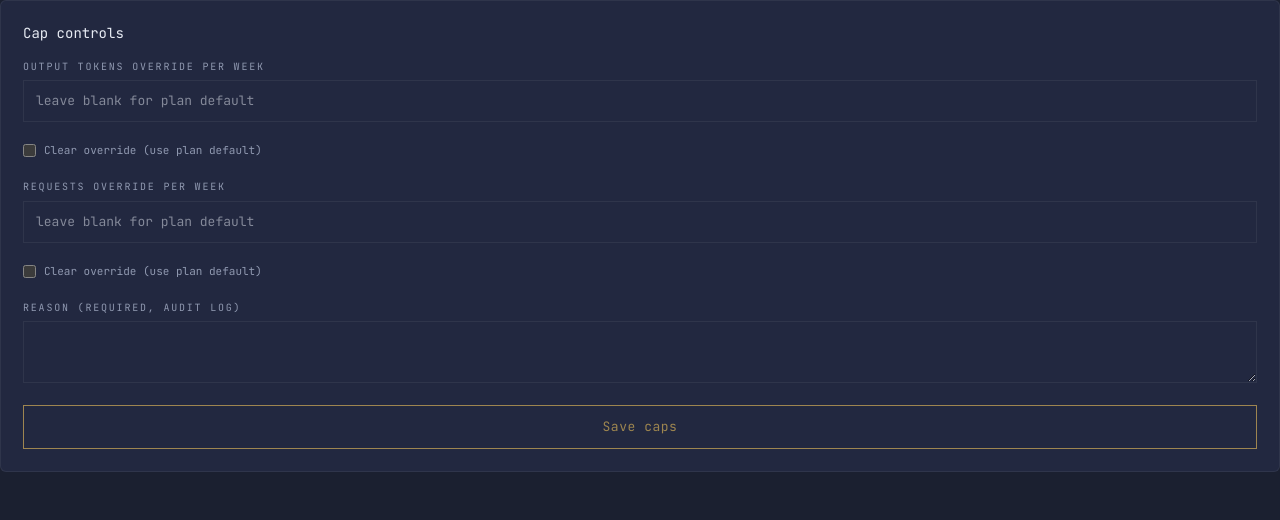
Test: CapOverrideCard › rejects negative numbers
Type "-5" into the number field labelled "Output tokens override per week" at (640, 101), box [23,80,1257,122]
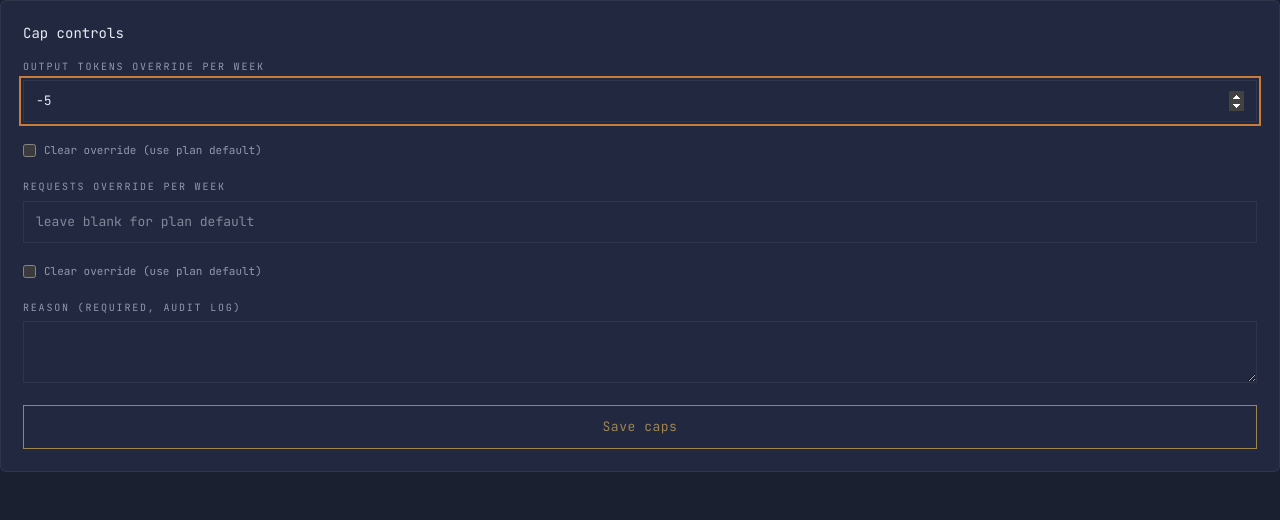
Type "r" into the text box labelled "Reason (required, audit log)" at (640, 352), box [23,321,1257,383]
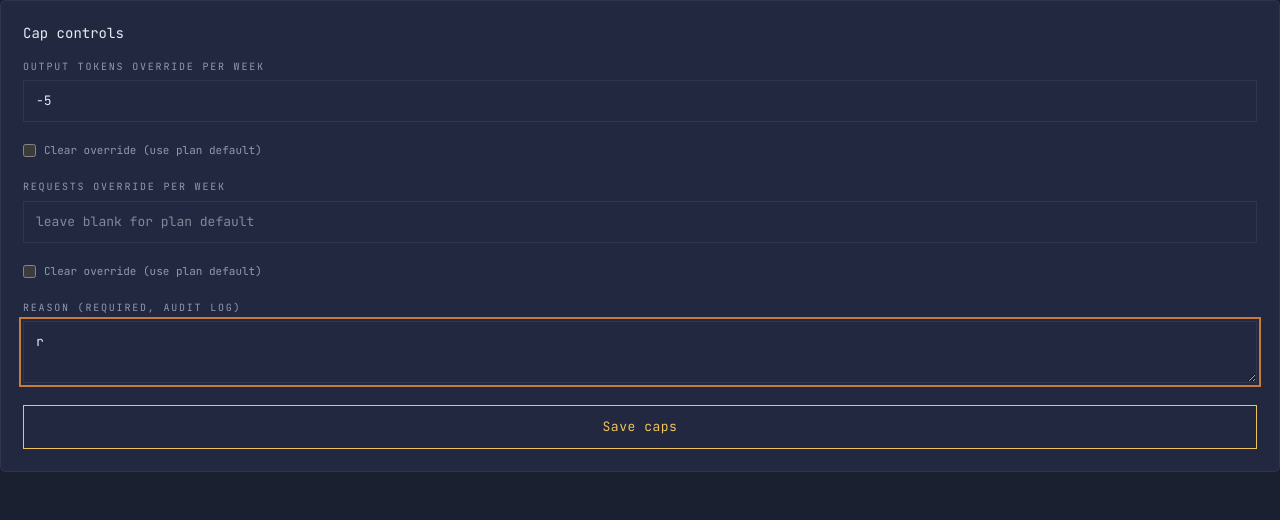
Click the button "Save caps" at (640, 427), box [23,405,1257,449]
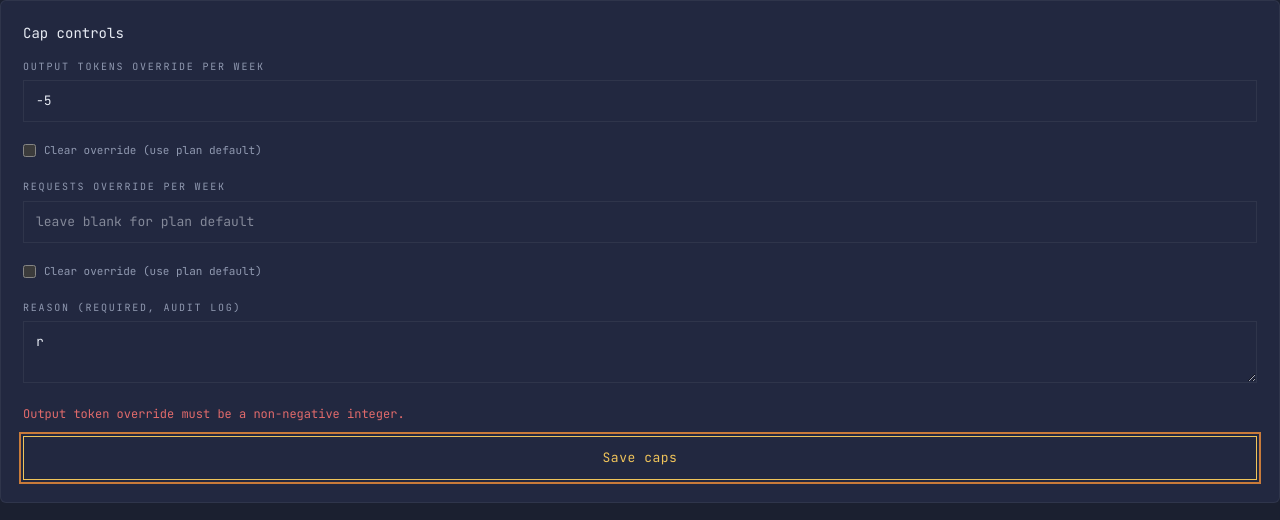
Result: the message shows "non-negative" at [23,406,405,422]
